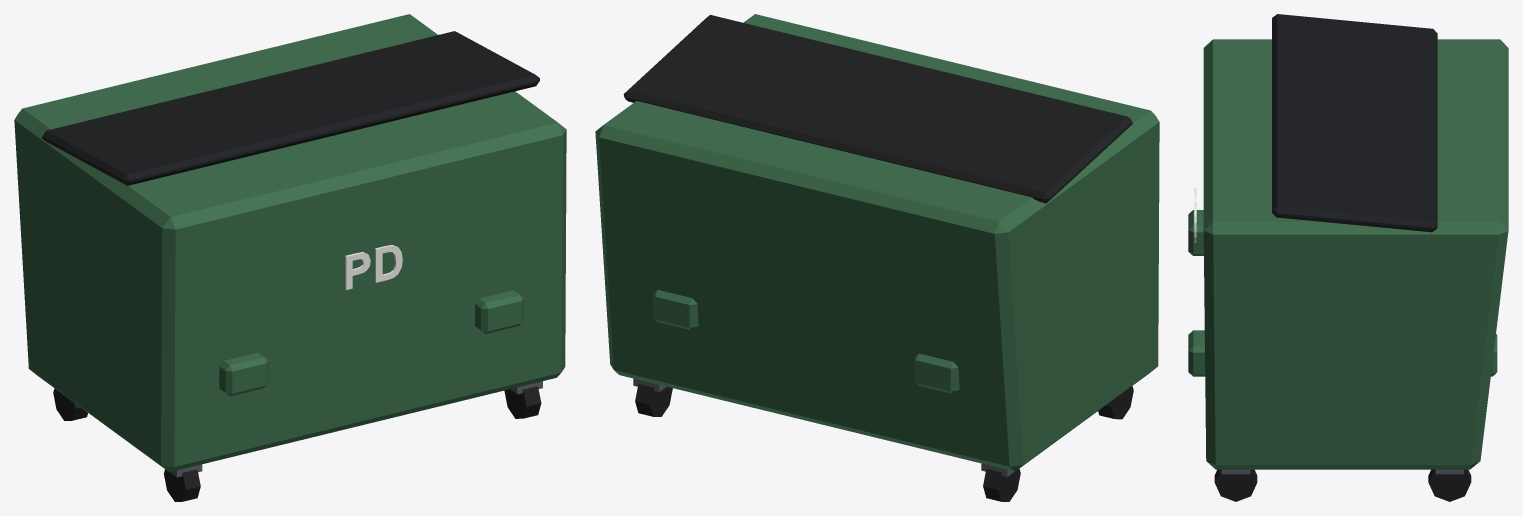
The model's file is PD_Dumpster.fbx.
3 views of the same model, side by side, from view 1: azimuth 30°, elevation 25°; view 2: azimuth 150°, elevation 25°; view 3: azimuth 270°, elevation 25° (orthographic). The views are drawn at different scales.
Parts seen in each view (by area): view 1: PD_Dumpster_Mesh; view 2: PD_Dumpster_Mesh; view 3: PD_Dumpster_Mesh.
Part boxes in pixels (x1,y1,x2,y2): PD_Dumpster_Mesh: (14, 14, 566, 501); PD_Dumpster_Mesh: (595, 14, 1159, 501); PD_Dumpster_Mesh: (1188, 14, 1508, 501).
Size of the model in its own units: 1.96 by 1.43 by 1.35.
